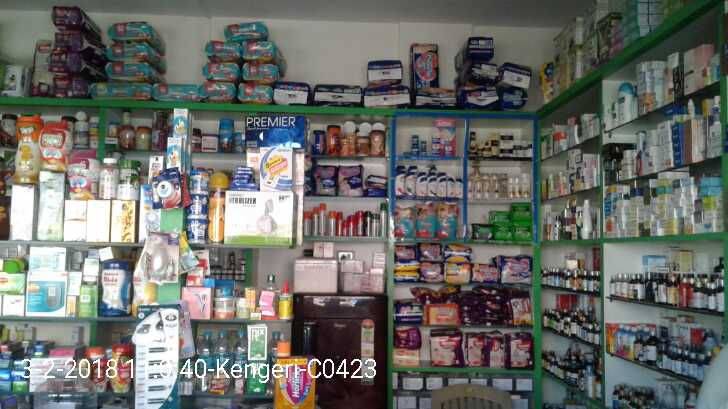beauty: (416, 171, 428, 196), (394, 171, 406, 196), (498, 130, 513, 148), (521, 170, 531, 196), (406, 171, 416, 196), (427, 176, 437, 195), (499, 146, 514, 157), (439, 174, 446, 196), (513, 176, 520, 198), (521, 139, 529, 158), (507, 177, 513, 198), (447, 176, 453, 196), (467, 178, 473, 198), (474, 181, 481, 198), (483, 180, 488, 199)
pharmacy: (224, 20, 269, 39), (209, 40, 241, 65), (241, 62, 279, 83), (416, 203, 437, 240), (437, 203, 458, 238), (394, 204, 415, 239), (241, 42, 278, 61), (240, 83, 271, 104), (208, 62, 241, 81), (470, 221, 492, 241), (492, 223, 514, 242), (510, 204, 531, 223), (515, 223, 532, 243), (488, 210, 512, 223), (432, 145, 440, 156), (412, 134, 418, 146), (409, 147, 417, 156)
